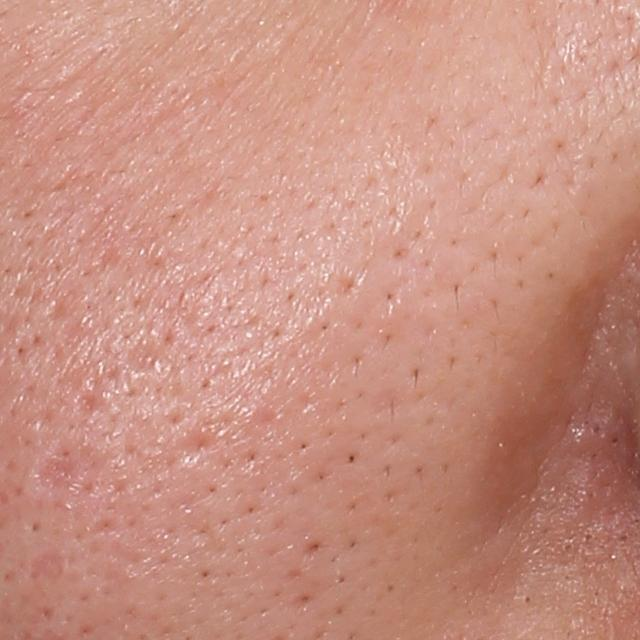atrophic_scar: (35, 443, 84, 492), (171, 427, 224, 470), (31, 553, 64, 578)
